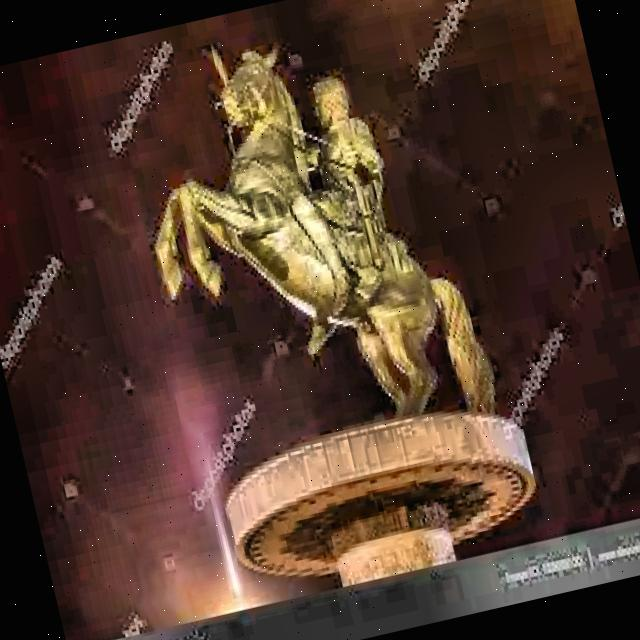alexander the great monument: (90, 0, 552, 606)
